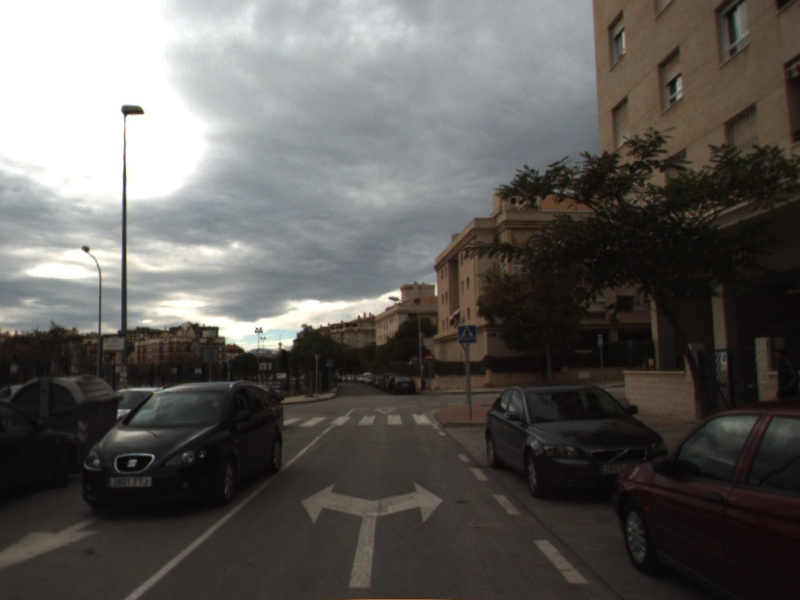LEFT_RIGHT: (298, 478, 447, 591)
